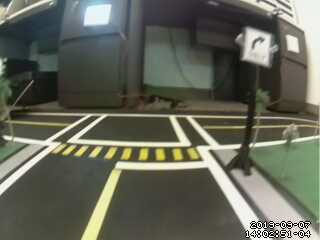Right_only_sign: (239, 26, 271, 69)
